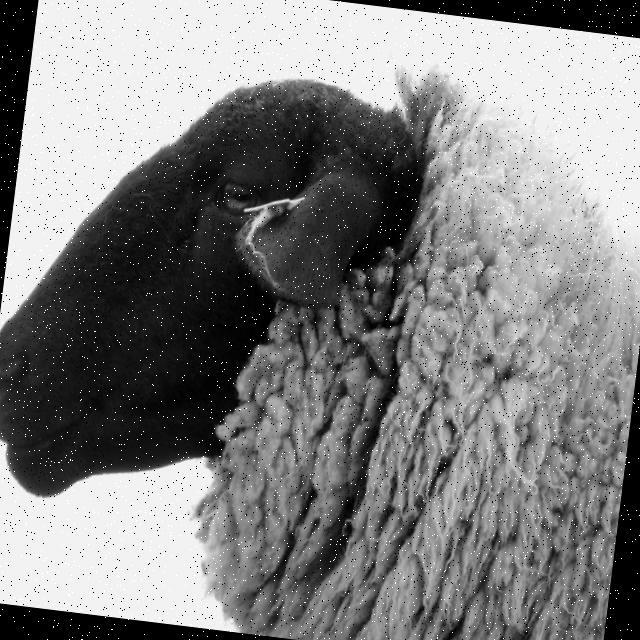sheep: (0, 73, 640, 640)
